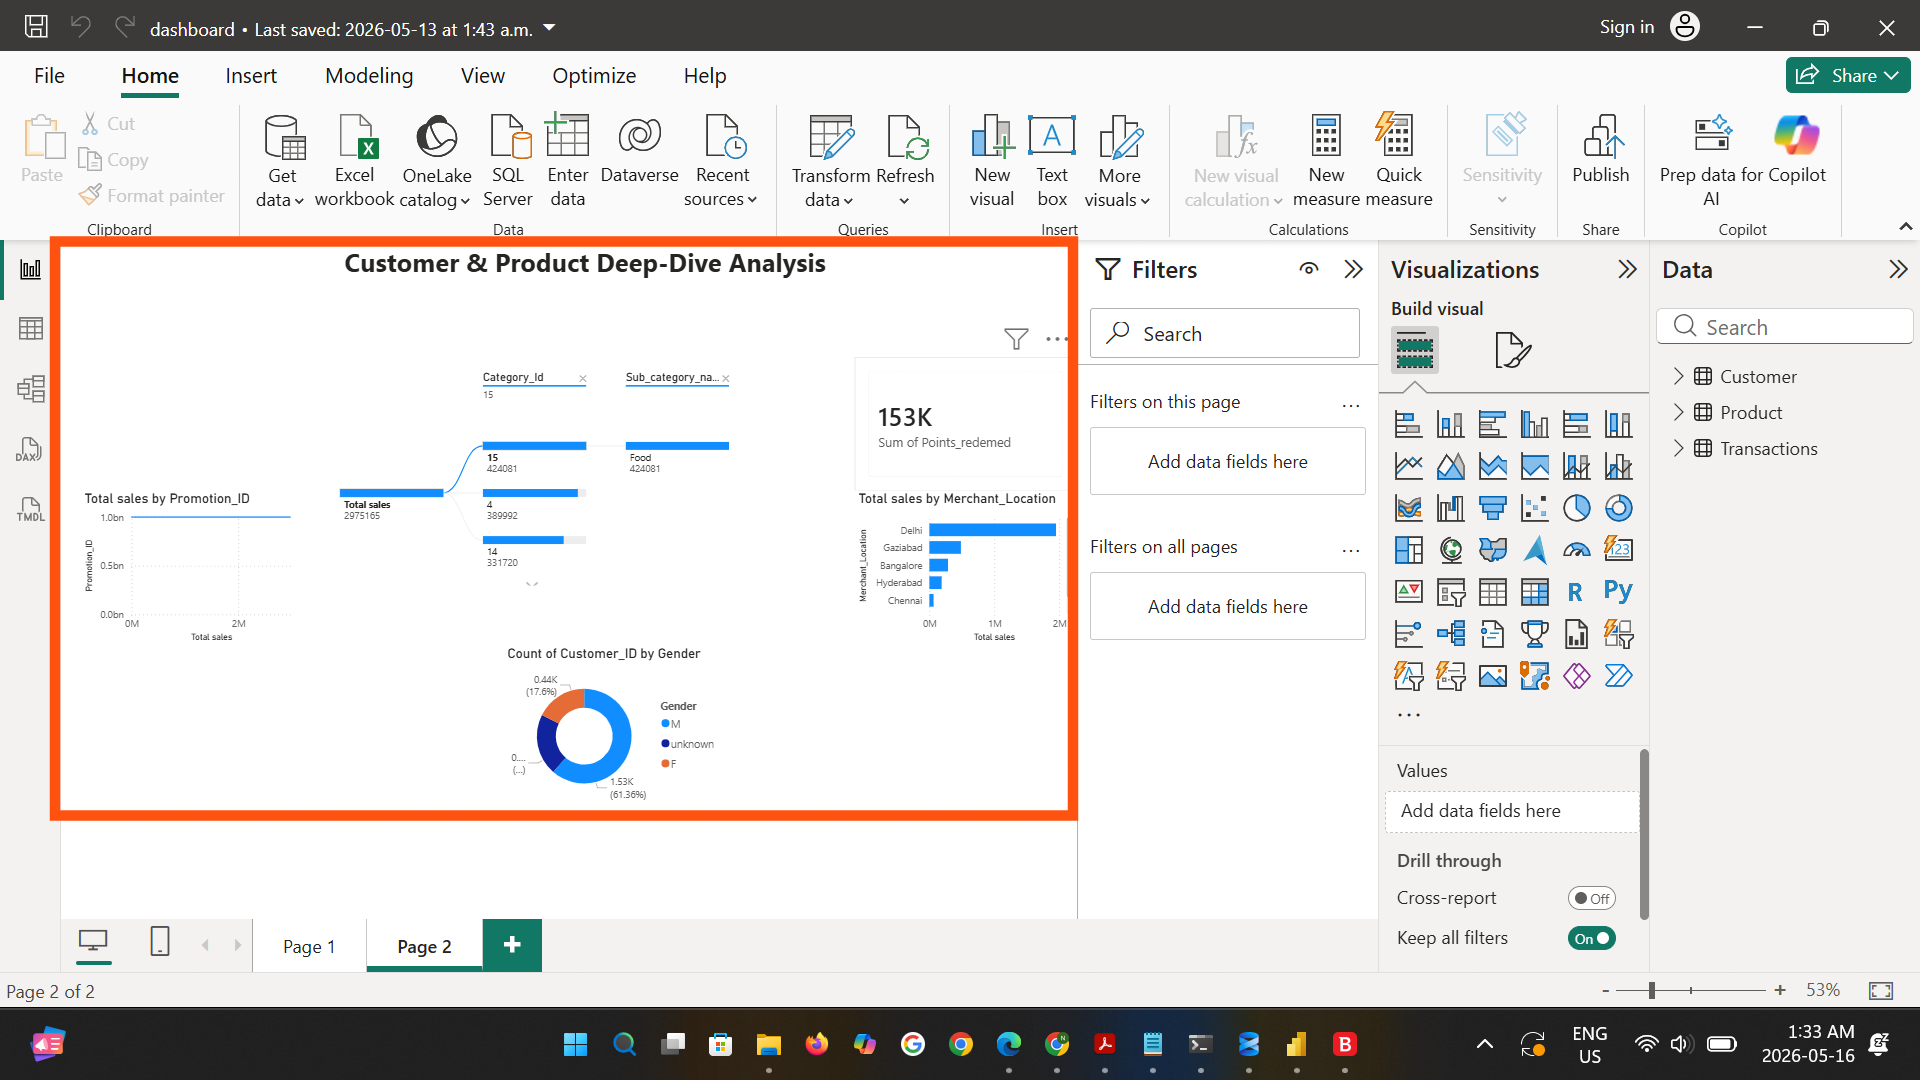

The dashboard page shown, as its layout file describes it:
{"tool":"powerbi","page":{"name":"Page 2","canvas":[1280,720],"ordinal":1},"visuals":[{"type":"decompositionTreeVisual","fields":{"Analyze":["Transactions.Total sales"],"ExplainBy":["Product.Category_Id","Product.Sub_category_name"]},"box":[321.3,147.4,657.6,292.9],"z":0},{"type":"donutChart","fields":{"Category":["Customer.Gender"],"Y":["Count(Customer.Customer_ID)"]},"box":[557.5,510.2,279.7,209.8],"z":1000},{"type":"clusteredBarChart","fields":{"Category":["Transactions.Promotion_ID"],"Y":["Transactions.Total sales"]},"box":[24.6,315.6,279.7,194.6],"z":2000},{"type":"cardVisual","fields":{"Data":["Sum(Customer.Points_redemed)"]},"box":[999.7,147.4,279.7,168.2],"z":3000},{"type":"clusteredBarChart","fields":{"Category":["Product.Merchant_Location"],"Y":["Transactions.Total sales"]},"box":[999.7,315.6,279.7,194.6],"z":4000},{"type":"textbox","box":[41.6,0,1237.8,66.1],"z":5000}]}

Visuals, with their boxes on the page's 1280x720 design canvas (x1, y1, x2, y2). These are canvas units, not pixel positions in the 1920x1080 screenshot, which may show the page scaled, cropped or inside an application window:
decompositionTreeVisual - Transactions.Total sales x Product.Category_Id: box(321, 147, 979, 440)
donutChart - Customer.Gender x Count(Customer.Customer_ID): box(558, 510, 837, 720)
clusteredBarChart - Transactions.Promotion_ID x Transactions.Total sales: box(25, 316, 304, 510)
cardVisual - Sum(Customer.Points_redemed): box(1000, 147, 1279, 316)
clusteredBarChart - Product.Merchant_Location x Transactions.Total sales: box(1000, 316, 1279, 510)
textbox: box(42, 0, 1279, 66)
